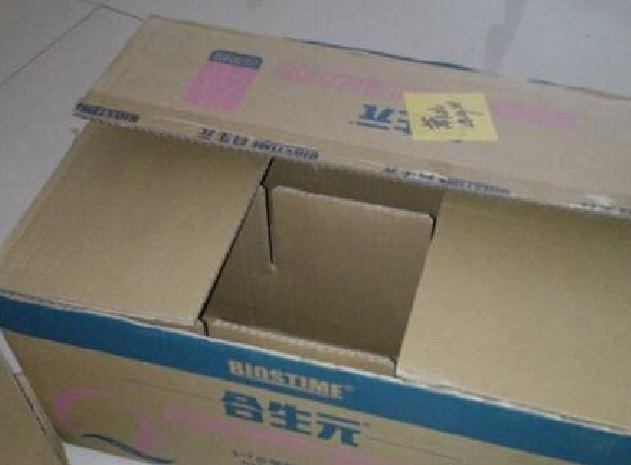cardboard: (0, 1, 630, 462)
